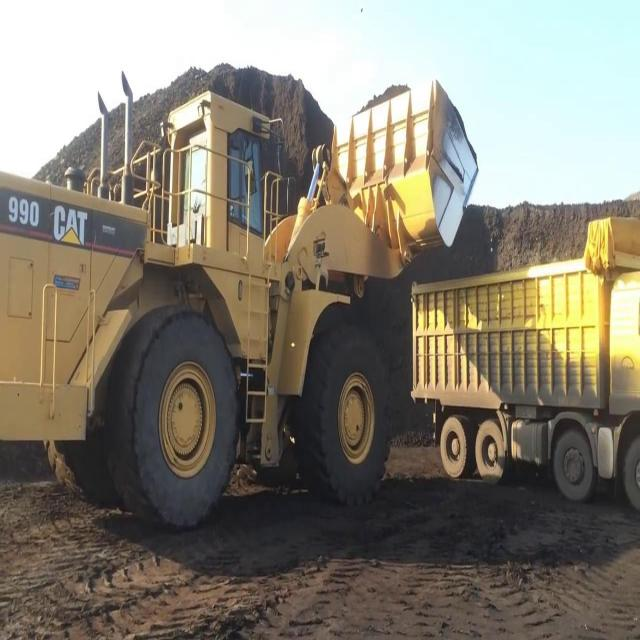buldozerpayloadergrader: (1, 54, 481, 529)
dump_truck: (409, 208, 639, 509)
